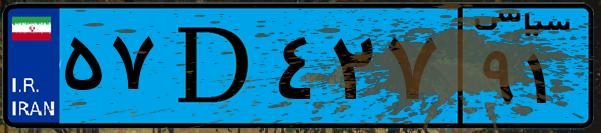1: (525, 38, 570, 115)
2: (330, 28, 385, 110)
4: (270, 28, 330, 110)
5: (57, 26, 110, 100)
7: (385, 28, 445, 110), (110, 28, 158, 98)
9: (475, 38, 525, 113)
D: (158, 12, 270, 120)
